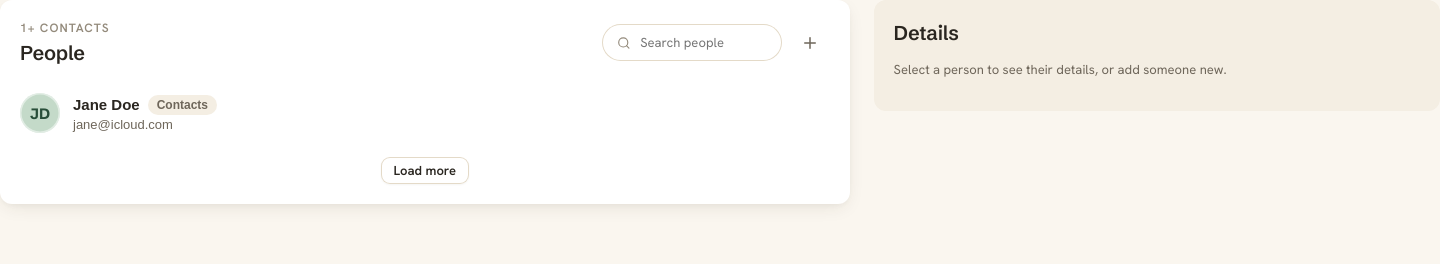
Test: CRMScreen › appends the next cursor page and drops the control once next_cursor is null
Click the button "Load more" at (425, 170), box [381, 157, 469, 184]
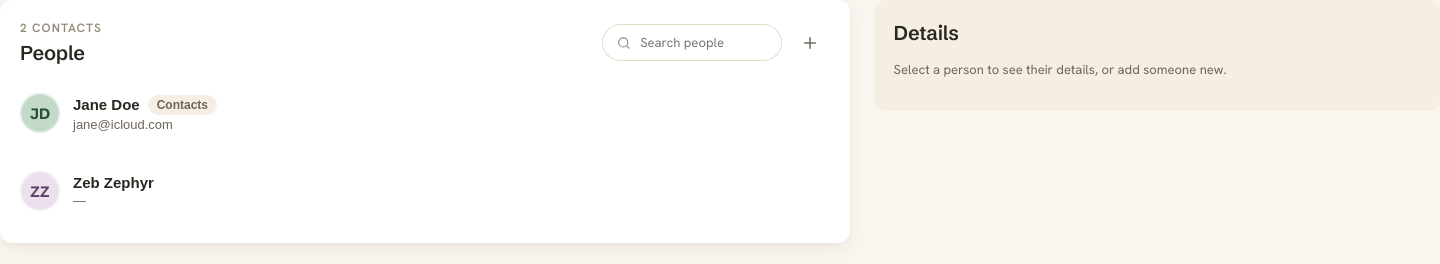
Expected: the button "Jane Doe" is shown, [20, 81, 830, 145]
Now the button "ZZ Zeb Zephyr —" is shown, box [20, 159, 830, 223]
Now the button "Load more" is gone
